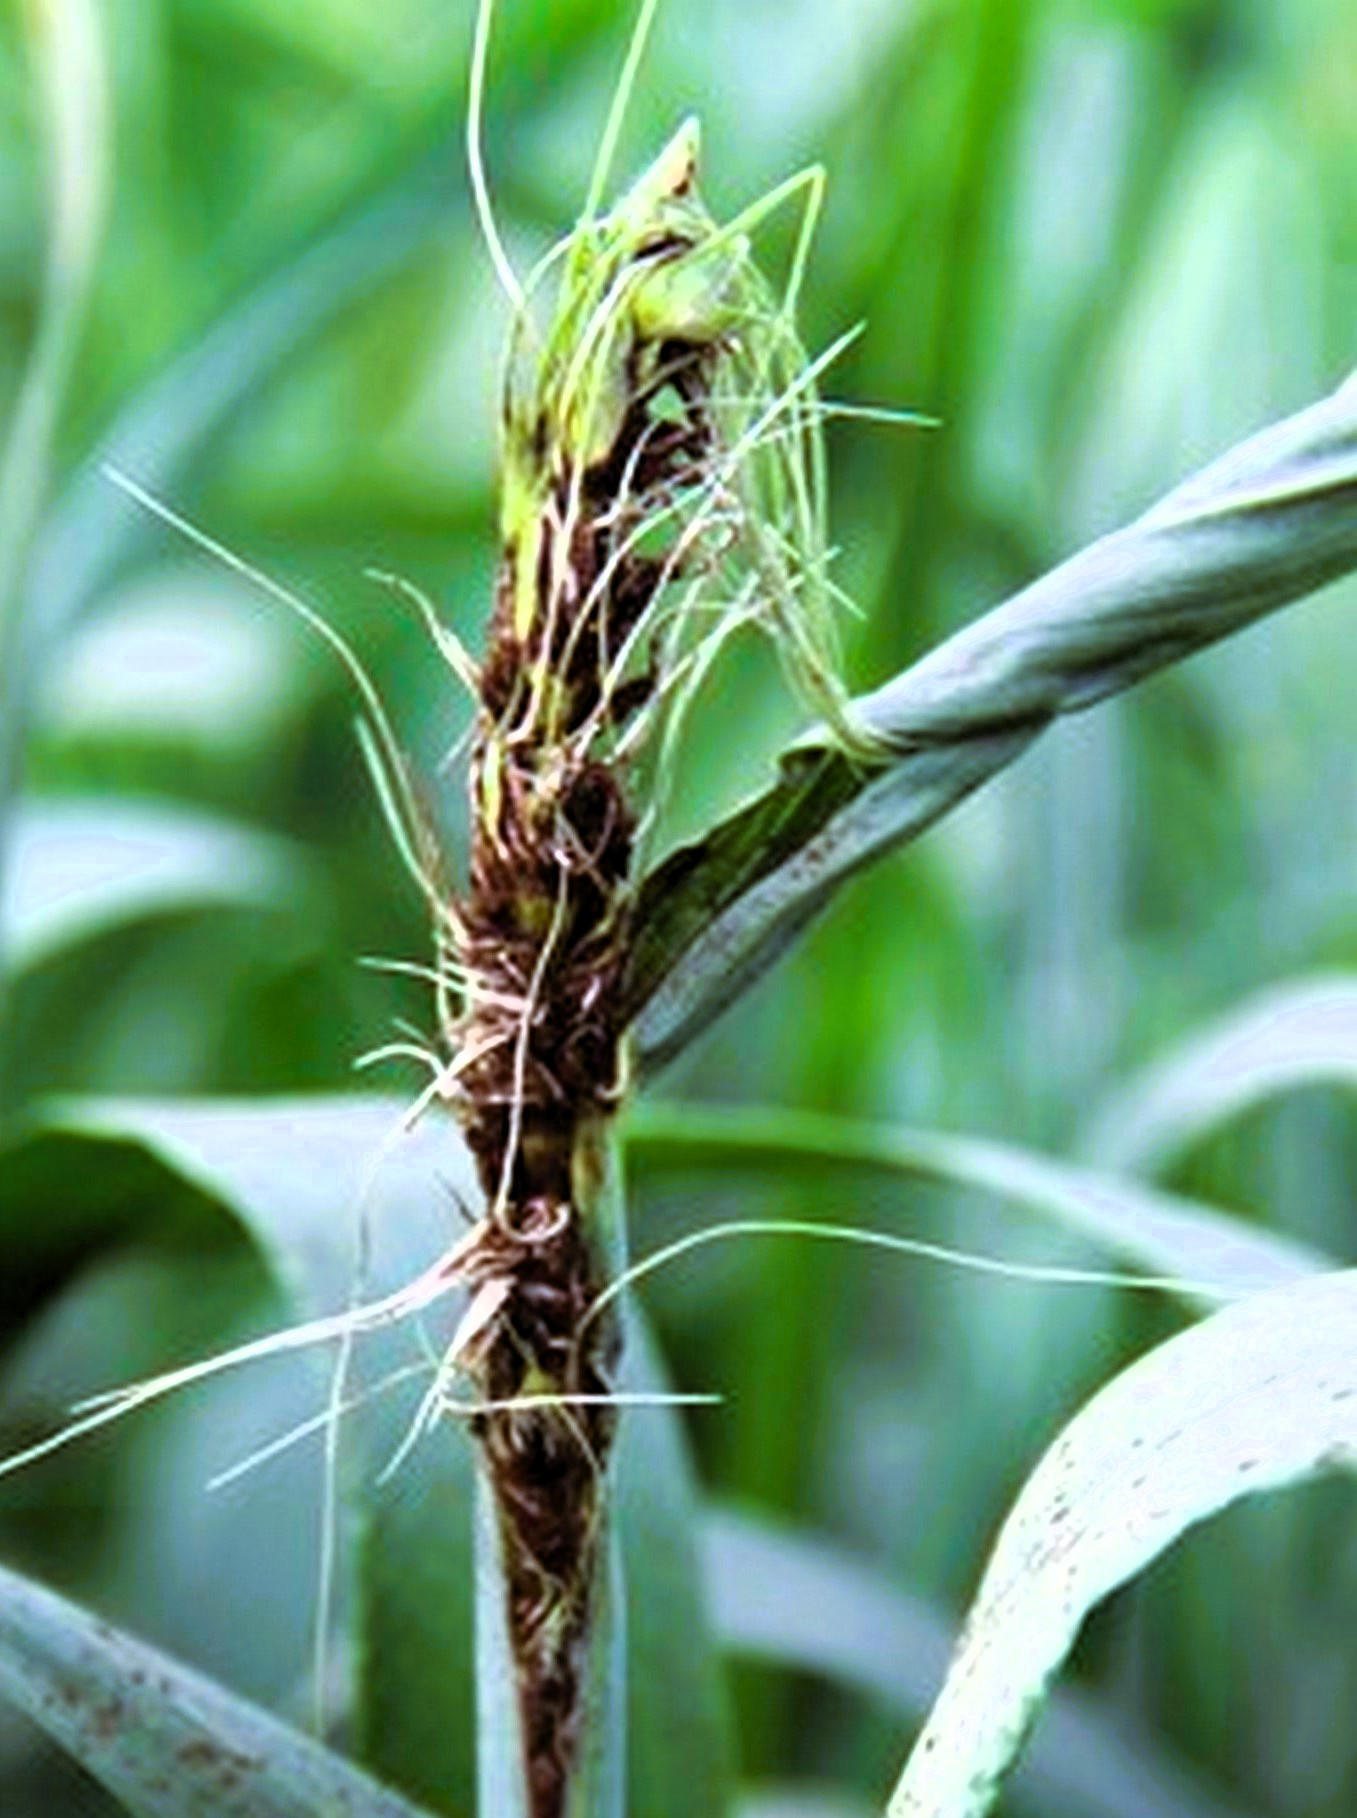Wheat Loose Smut: (301, 158, 822, 1418)
